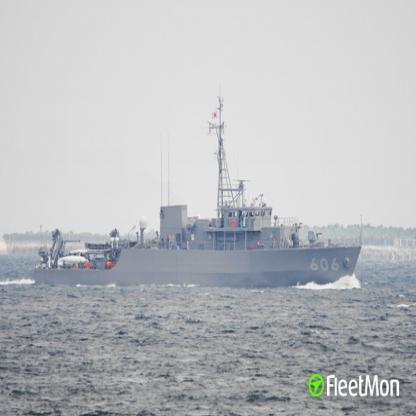Military Ship: (34, 96, 362, 286)
